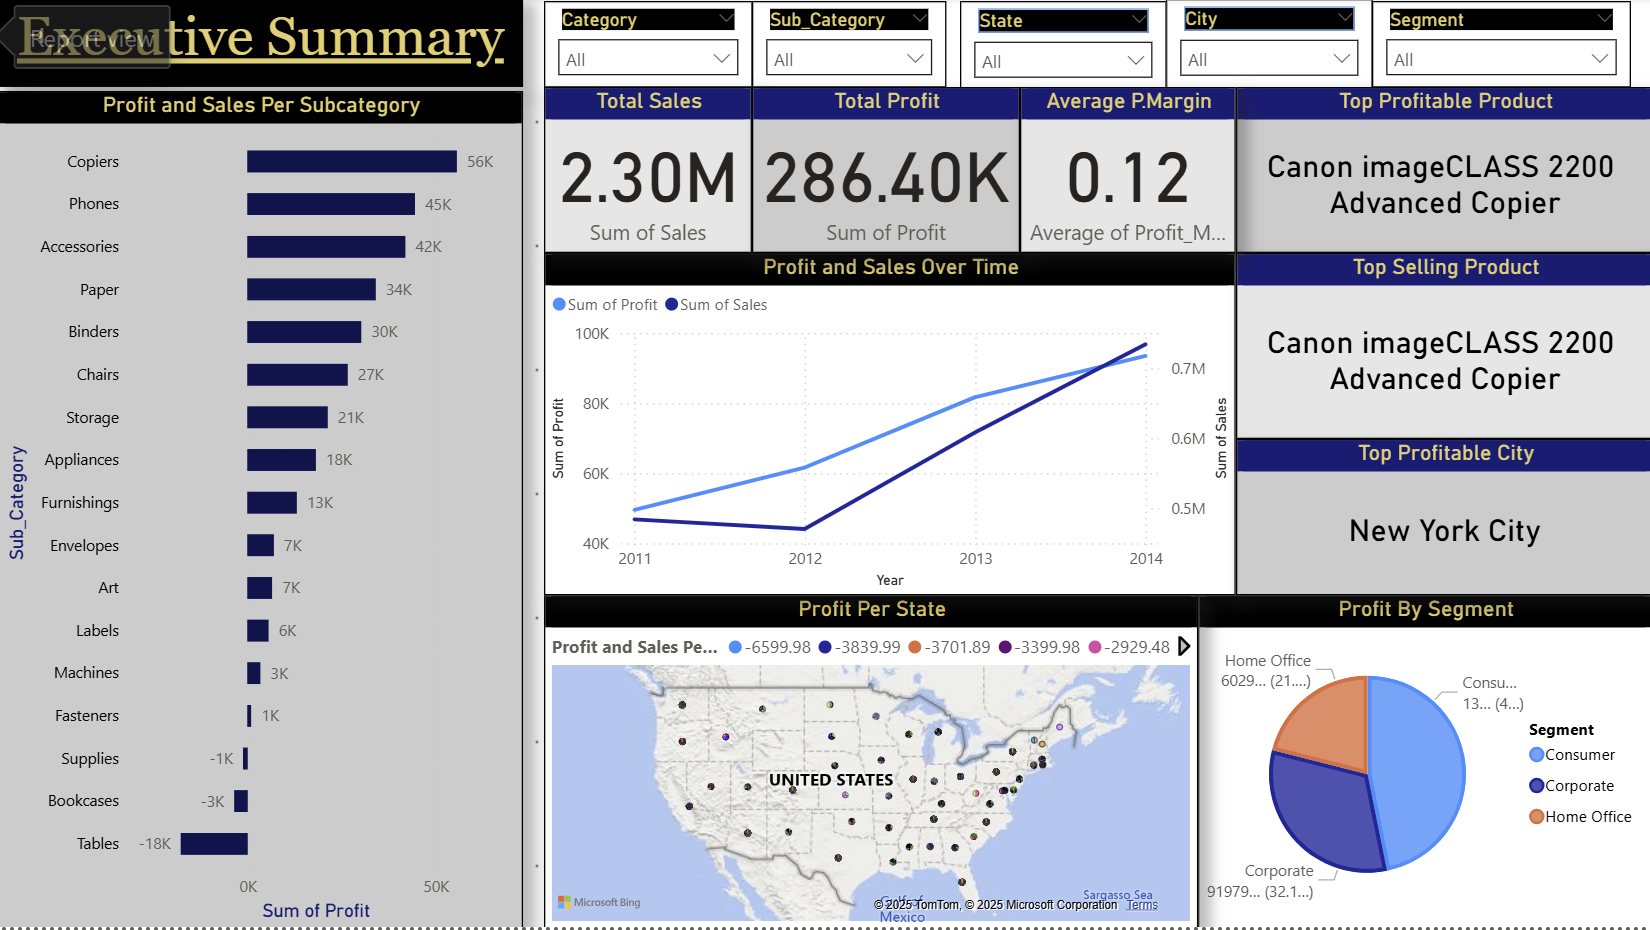

The page's visual inventory and layout, read from the dashboard file:
{"tool":"powerbi","page":{"name":"Over View","canvas":[1280,720],"ordinal":0},"visuals":[{"type":"pieChart","title":"Profit By Segment","fields":{"Category":["SSS.Segment"],"Y":["Sum(SSS.Profit)"]},"box":[929,463,351.5,258.6],"z":0},{"type":"textbox","box":[0,0,406.3,69.6],"z":1000},{"type":"map","title":"Profit Per State","fields":{"Category":["SSS.State"],"Series":["SSS.Profit"]},"box":[422.7,463,506.3,258.6],"z":2000},{"type":"lineChart","title":"Profit and Sales Over Time","fields":{"Category":["SSS.Order_Date.Variation.Date Hierarchy.Year","SSS.Order_Date.Variation.Date Hierarchy.Month"],"Y":["Sum(SSS.Profit)"],"Y2":["Sum(SSS.Sales)"]},"box":[422.7,198.2,535.7,264.8],"z":3000},{"type":"slicer","fields":{"Values":["SSS.City"]},"box":[904.3,1.4,160,69.6],"z":4000},{"type":"slicer","fields":{"Values":["SSS.Segment"]},"box":[1064.3,2.8,200.3,66.8],"z":5000},{"type":"slicer","fields":{"Values":["SSS.Category"]},"box":[423,2.8,161.4,66.8],"z":6000},{"type":"slicer","fields":{"Values":["SSS.State"]},"box":[744.3,2.8,160,69.6],"z":7000},{"type":"slicer","fields":{"Values":["SSS.Sub_Category"]},"box":[584.3,2.8,150.3,66.8],"z":8000},{"type":"clusteredBarChart","title":"Profit and Sales Per Subcategory","fields":{"Category":["SSS.Sub_Category"],"Y":["Sum(SSS.Profit)"]},"box":[0,72.3,406.3,648.3],"z":9000},{"type":"card","title":"Top Profitable Product","fields":{"Values":["Min(SSS.Product_Name)"]},"box":[958.5,69.7,323.6,128.5],"z":10000},{"type":"card","title":"Top Selling Product","fields":{"Values":["Min(SSS.Product_Name)"]},"box":[958.5,198.2,323.6,144],"z":11000},{"type":"card","title":"Top Profitable City","fields":{"Values":["Min(SSS.City)"]},"box":[958.5,342.2,323.6,120.8],"z":12000},{"type":"card","title":"Total Sales","fields":{"Values":["Sum(SSS.Sales)"]},"box":[422.7,69.7,161,128.5],"z":13000},{"type":"card","title":"Total Profit","fields":{"Values":["Sum(SSS.Profit)"]},"box":[583.7,69.7,207.5,128.5],"z":14000},{"type":"card","title":"Average P.Margin","fields":{"Values":["Avg(SSS.Profit_Margin)"]},"box":[791.2,69.7,167.2,128.5],"z":15000}]}

Visuals, with their boxes in screenshot pixels (x1, y1, x2, y2):
"Profit By Segment" pieChart: bbox(1185, 584, 1632, 913)
textbox: bbox(4, 0, 521, 84)
"Profit Per State" map: bbox(542, 584, 1185, 913)
"Profit and Sales Over Time" lineChart: bbox(542, 248, 1223, 584)
slicer - SSS.City: bbox(1154, 0, 1357, 86)
slicer - SSS.Segment: bbox(1357, 0, 1612, 84)
slicer - SSS.Category: bbox(542, 0, 747, 84)
slicer - SSS.State: bbox(950, 0, 1154, 88)
slicer - SSS.Sub_Category: bbox(747, 0, 938, 84)
"Profit and Sales Per Subcategory" clusteredBarChart: bbox(4, 88, 521, 912)
"Top Profitable Product" card: bbox(1223, 84, 1634, 248)
"Top Selling Product" card: bbox(1223, 248, 1634, 431)
"Top Profitable City" card: bbox(1223, 431, 1634, 584)
"Total Sales" card: bbox(542, 84, 746, 248)
"Total Profit" card: bbox(746, 84, 1010, 248)
"Average P.Margin" card: bbox(1010, 84, 1223, 248)
